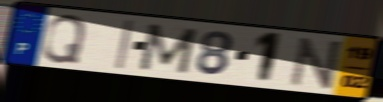1: (251, 31, 282, 87)
8: (195, 30, 235, 77)
I: (113, 18, 136, 71)
M: (136, 21, 201, 76)
N: (288, 36, 345, 90)
Q: (40, 13, 89, 65)
